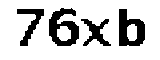6: (48, 5, 81, 53)
7: (15, 5, 44, 52)
b: (115, 3, 151, 51)
x: (80, 16, 116, 52)
